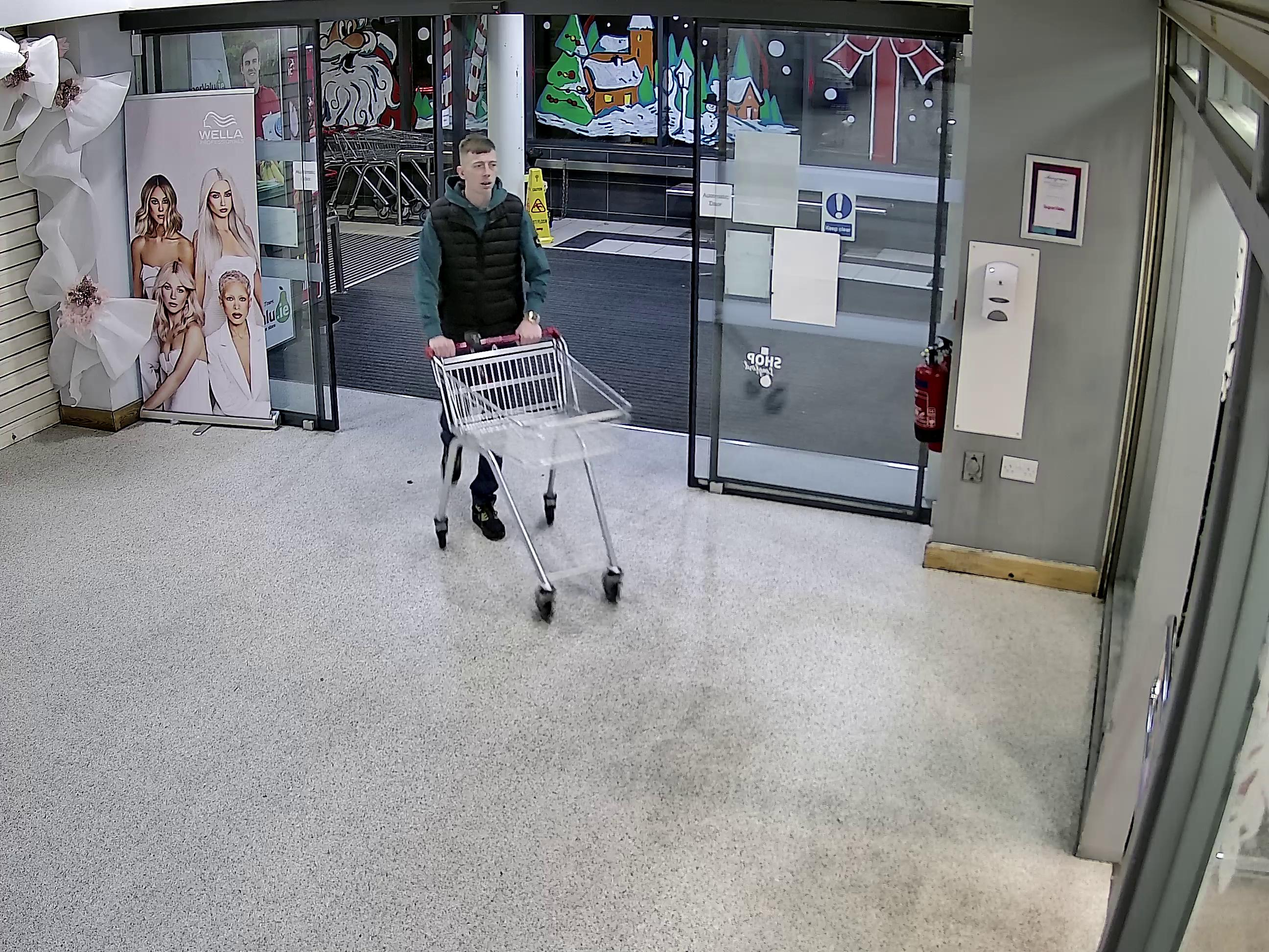empty-trolly: (425, 327, 634, 620)
person: (416, 133, 552, 541)
person-with-empty-basket-trolly: (416, 130, 634, 627)
